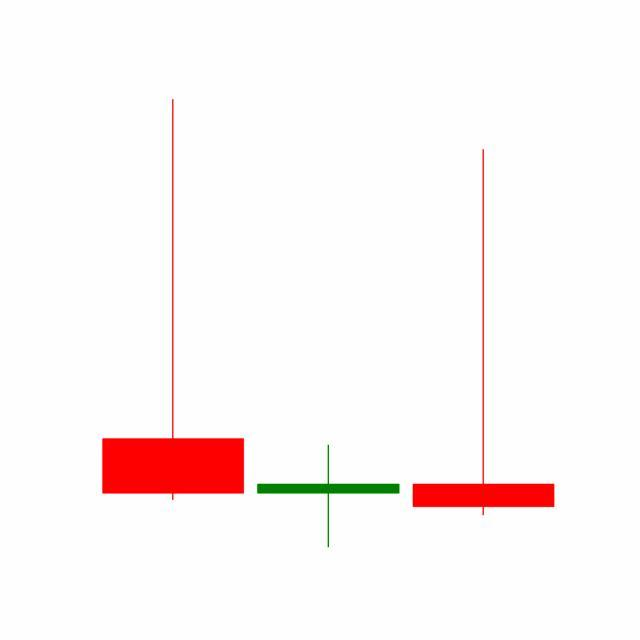Spinning Top: (250, 444, 407, 549)
